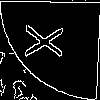X: (25, 24, 73, 60)
